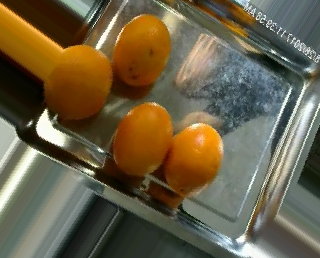Orange: (164, 122, 224, 196), (112, 102, 172, 175), (113, 13, 171, 86)
